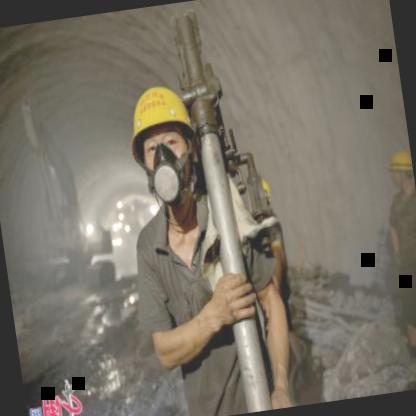helmet: (118, 67, 215, 224), (384, 144, 416, 192)
